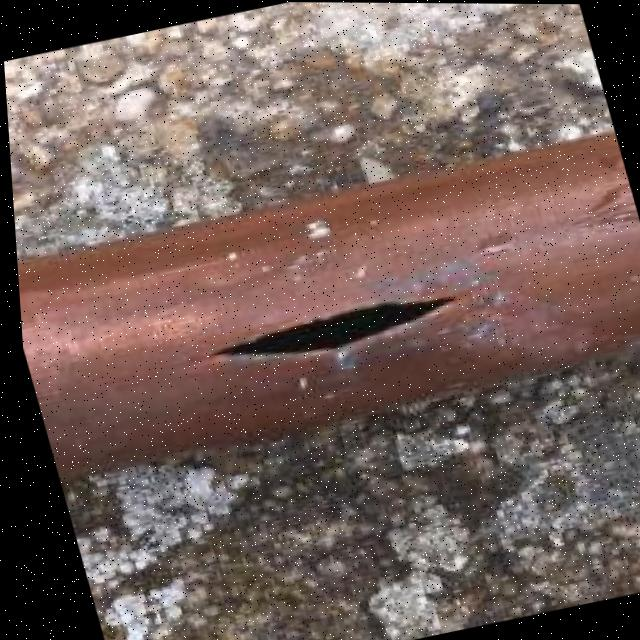rupture: (188, 278, 469, 383)
